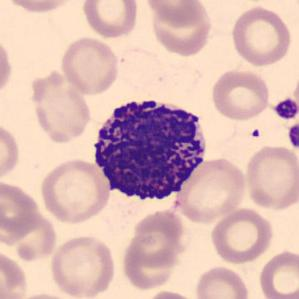Basophil: (87, 90, 212, 208)
Platelets: (272, 97, 299, 121), (285, 123, 299, 150), (249, 128, 262, 139)
RBC: (119, 207, 190, 291), (173, 155, 248, 224), (27, 67, 93, 145), (38, 156, 112, 225), (48, 233, 117, 299), (229, 4, 293, 67), (209, 206, 275, 265), (58, 35, 121, 96), (243, 143, 298, 212), (147, 2, 214, 57), (210, 67, 272, 122), (1, 209, 60, 264), (0, 177, 42, 244), (80, 0, 140, 40), (256, 247, 298, 299), (193, 264, 252, 299), (142, 0, 208, 27), (0, 247, 30, 299), (0, 120, 21, 183), (3, 0, 80, 15), (0, 34, 14, 99), (143, 288, 200, 299), (13, 291, 78, 299), (292, 65, 299, 118)
